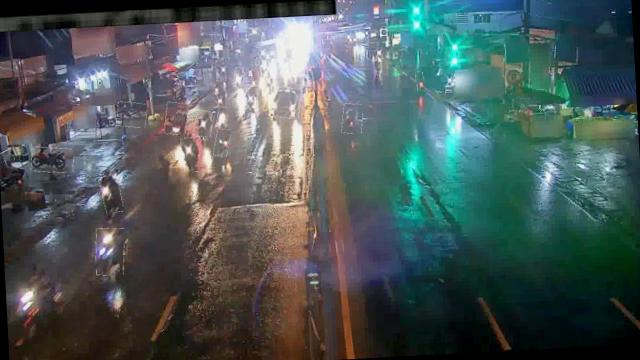Bike: (94, 227, 125, 275), (30, 146, 73, 174), (180, 136, 207, 172), (99, 174, 122, 214), (116, 100, 147, 128), (164, 102, 189, 135), (341, 103, 364, 134), (192, 109, 214, 137), (213, 127, 230, 156), (244, 83, 258, 108), (214, 86, 227, 108), (215, 106, 228, 128), (232, 66, 245, 88), (416, 71, 424, 90)
Car: (268, 84, 302, 118)
